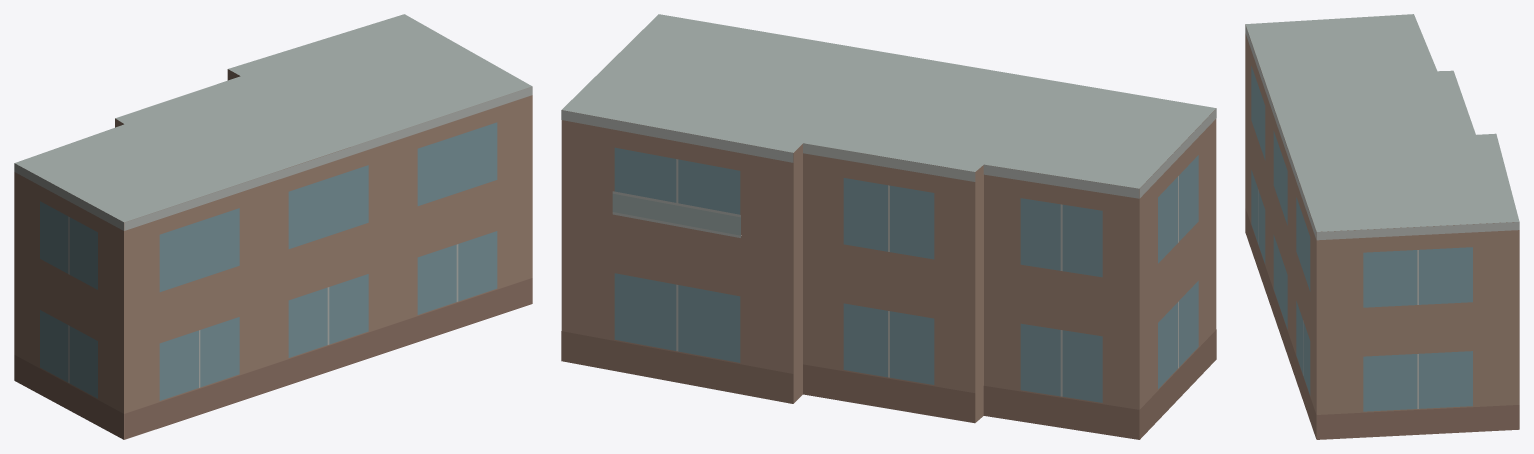
The model's file is survey-upis-32695697.glb.
The picture shows the model from 3 angles, left to right: view 1: azimuth 30°, elevation 25°; view 2: azimuth 150°, elevation 25°; view 3: azimuth 270°, elevation 25°; orthographic projection. The views are drawn at different scales.
Parts seen in each view (by area): view 1: survey-upis-32695697.tmp; view 2: survey-upis-32695697.tmp; view 3: survey-upis-32695697.tmp.
Part boxes in pixels (x1,y1,x2,y2): survey-upis-32695697.tmp: (14,14,532,439); survey-upis-32695697.tmp: (561,14,1216,439); survey-upis-32695697.tmp: (1245,14,1519,439).
Size of the model in its own units: 13.73 by 6.1 by 7.3.
